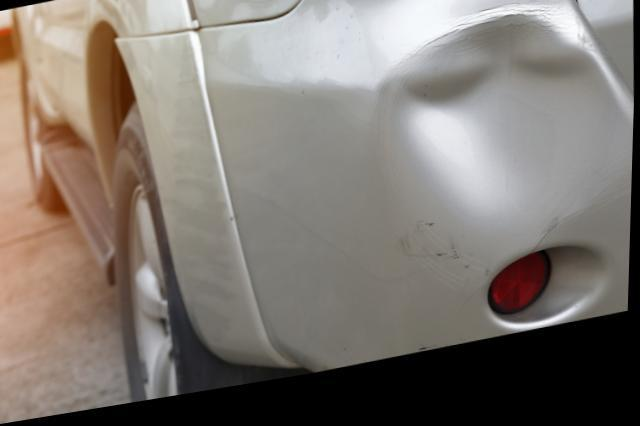dent: (395, 30, 619, 256)
